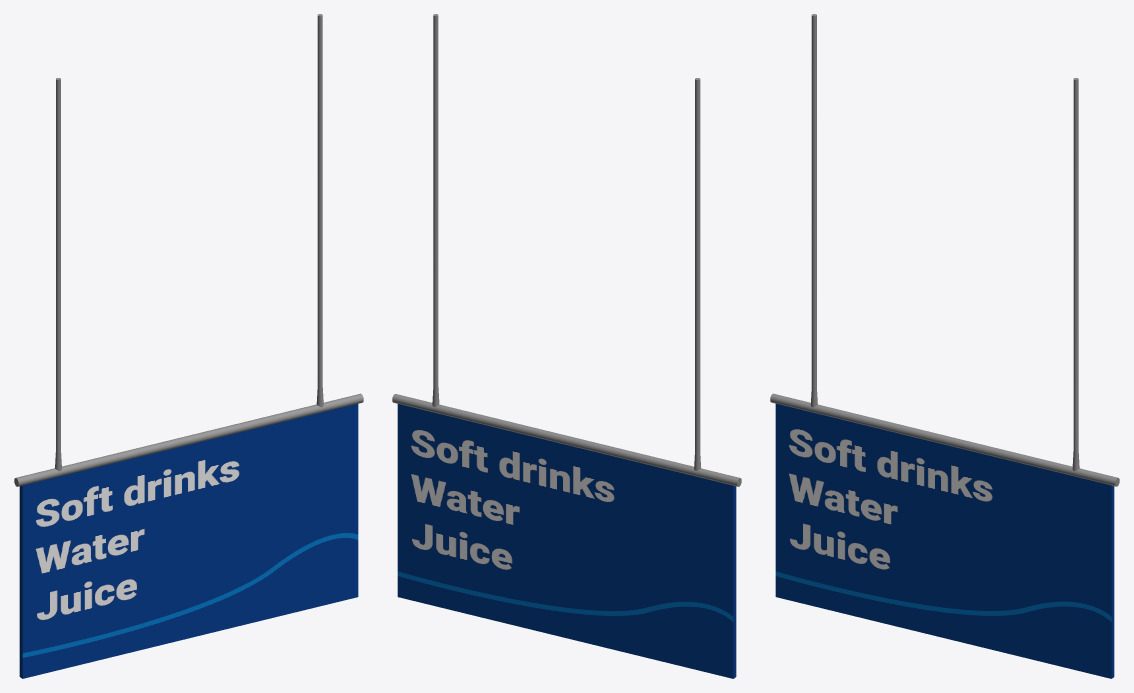
Rendered from Ceiling picture 2.fbx.
3 views of the same model, side by side, from view 1: azimuth 30°, elevation 25°; view 2: azimuth 150°, elevation 25°; view 3: azimuth 330°, elevation 25° (orthographic).
Parts seen in each view (by area): view 1: Ceiling picture 2; view 2: Ceiling picture 2; view 3: Ceiling picture 2.
Part boxes in pixels (x1,y1,x2,y2): Ceiling picture 2: (14,14,363,678); Ceiling picture 2: (392,14,741,678); Ceiling picture 2: (770,14,1119,678).
Bounding box in the file's own units: 48.47 × 79.18 × 1.12.
2 materials, 1 textured.
